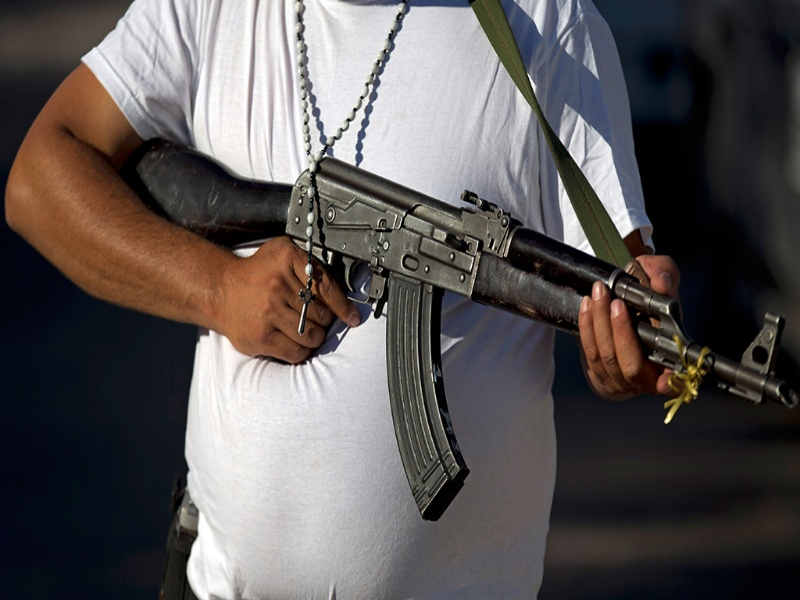person: (4, 1, 684, 600)
weapon: (128, 137, 795, 522)
